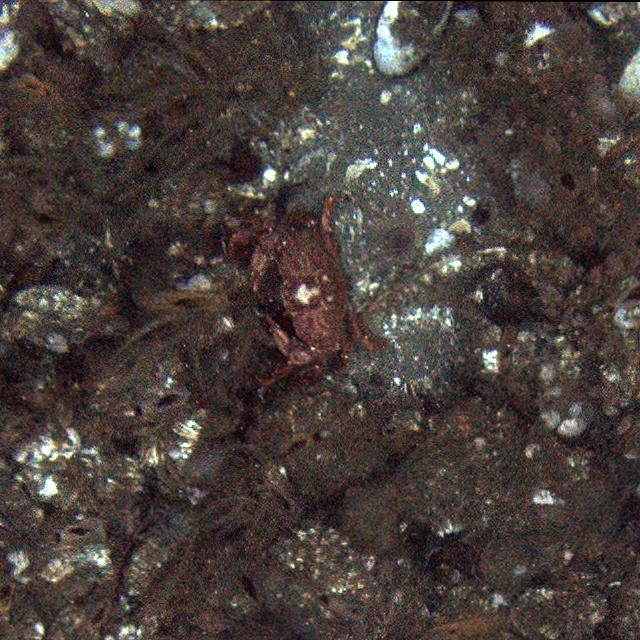crab: (245, 198, 381, 370)
